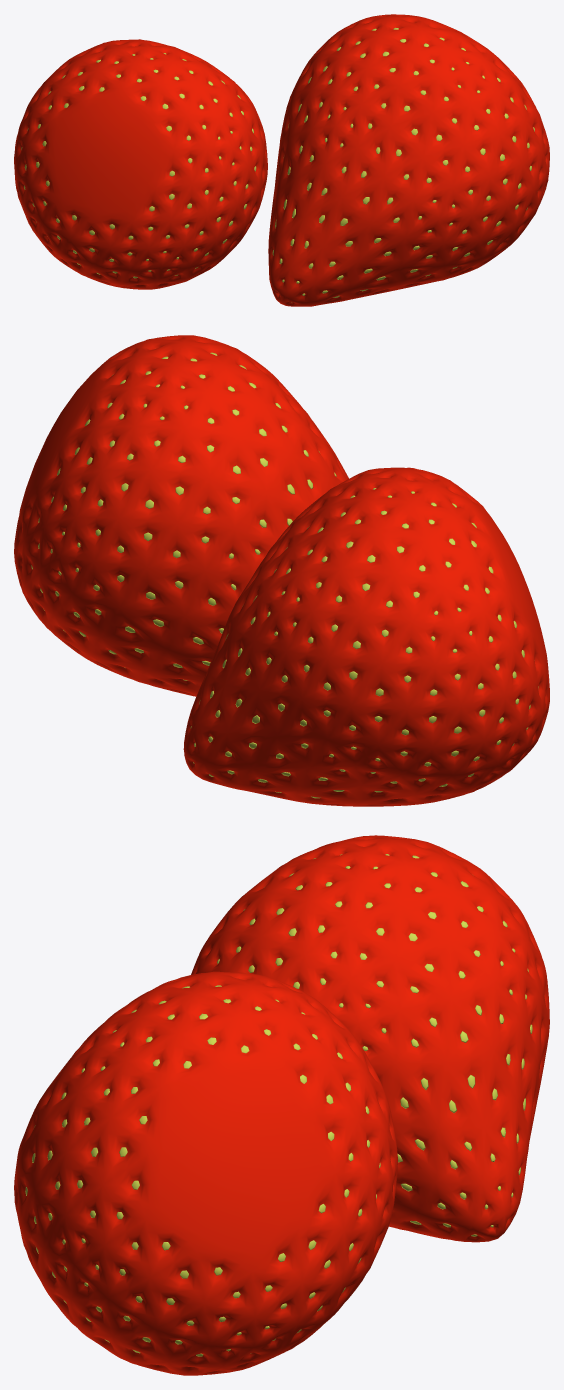
File: strewberry.fbx
The picture shows the model from 3 angles, top to bottom: view 1: azimuth 30°, elevation 25°; view 2: azimuth 150°, elevation 25°; view 3: azimuth 270°, elevation 25°; orthographic projection. The views are drawn at different scales.
Visible parts, largest first — view 1: StrewberrySeed1.003, StrewberrySeed1.002; view 2: StrewberrySeed1.002, StrewberrySeed1.003; view 3: StrewberrySeed1.003, StrewberrySeed1.002.
Boxes of the visible parts, box(x1,y1,x2,y2) form: StrewberrySeed1.003: box(268, 14, 549, 306); StrewberrySeed1.002: box(14, 39, 267, 289); StrewberrySeed1.002: box(183, 467, 549, 806); StrewberrySeed1.003: box(14, 335, 348, 696); StrewberrySeed1.003: box(14, 971, 397, 1375); StrewberrySeed1.002: box(191, 835, 549, 1242).
Size of the model in its own units: 11.3 by 6.11 by 8.12.
